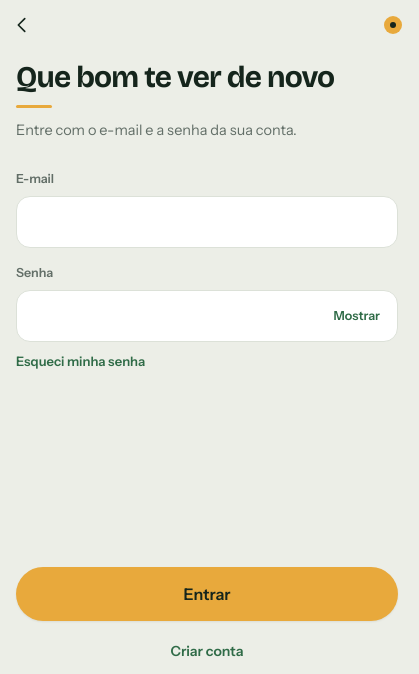
Entrar › senha errada mostra a mensagem genérica e não navega (CA04)
The image size is (419, 674).
Type "camila@exemplo.com" into the field labelled "E-mail" at (207, 222), box [16,196,398,248]
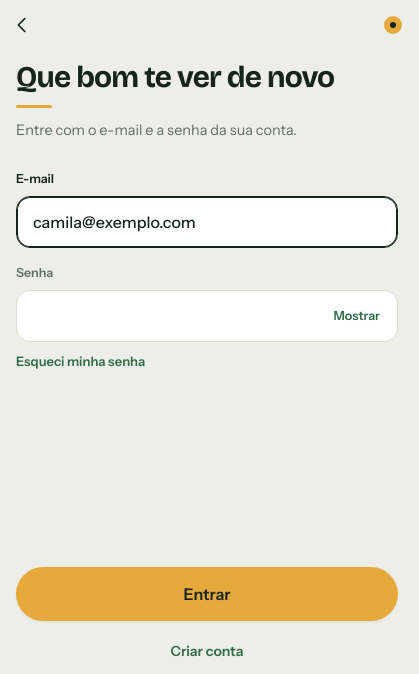
Type "senha1234" into the password field labelled "Senha" at (207, 316), box [16,290,398,342]
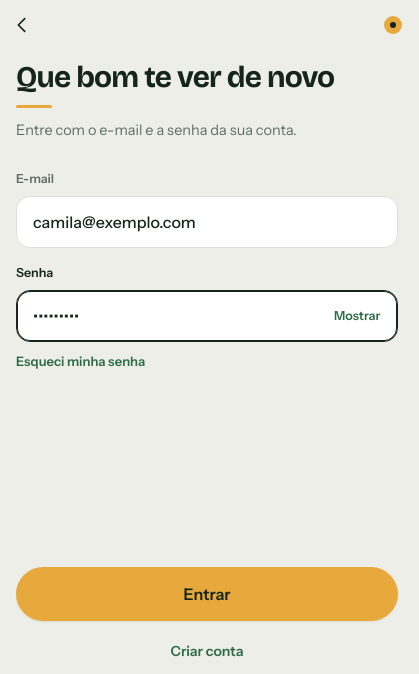
Click the button "Entrar" at (207, 594), box [16,567,398,621]
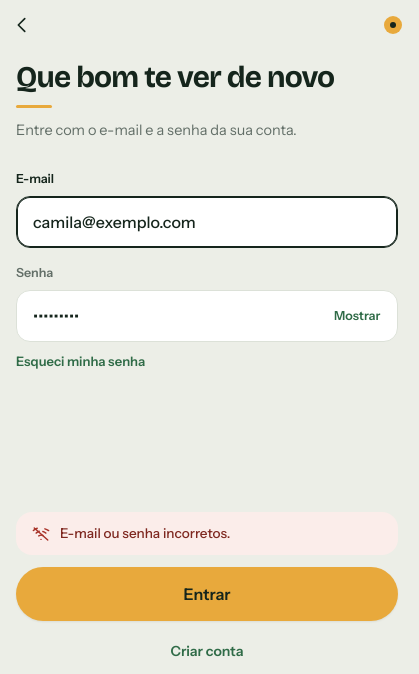
expect the message reads "E-mail ou senha incorretos.": met, box [60,525,230,541]
